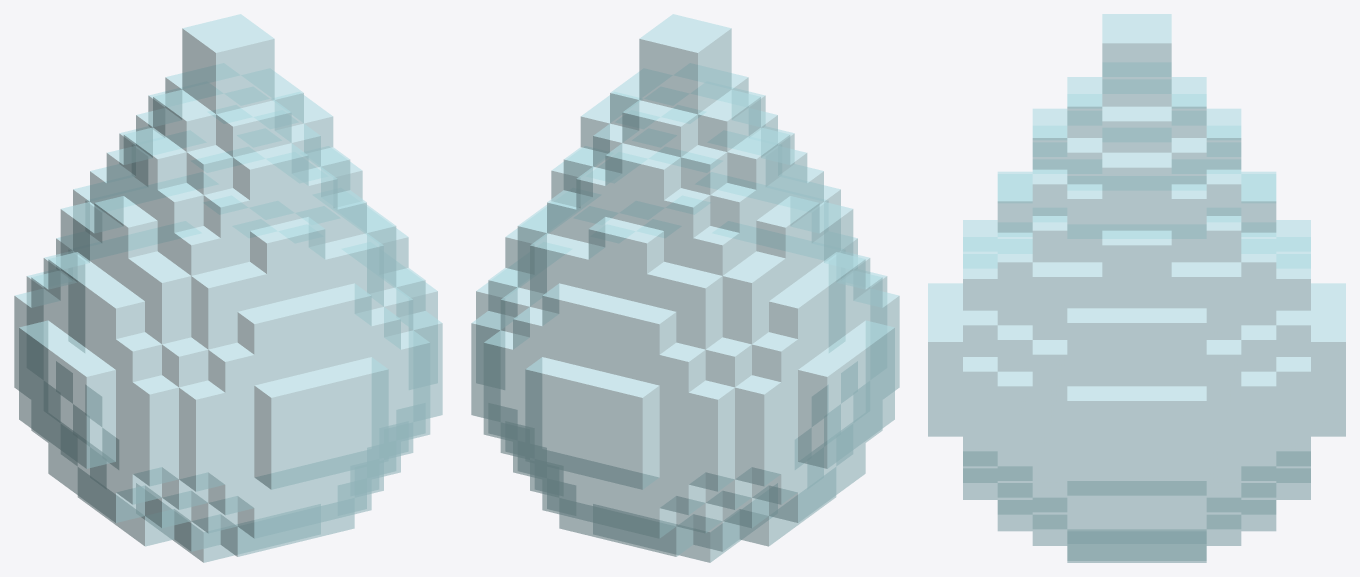
File: item_DEWDROP.glb
3 views of the same model, side by side, from view 1: azimuth 30°, elevation 25°; view 2: azimuth 150°, elevation 25°; view 3: azimuth 270°, elevation 25° (orthographic). The views are drawn at different scales.
Parts seen in each view (by area): view 1: item_DEWDROP; view 2: item_DEWDROP; view 3: item_DEWDROP.
Part boxes in pixels (x1,y1,x2,y2): item_DEWDROP: (14, 14, 442, 562); item_DEWDROP: (471, 14, 899, 562); item_DEWDROP: (928, 14, 1345, 562).
Size of the model in its own units: 0.1364 by 0.1818 by 0.1364.
Materials: 1 (1 with a texture image).
